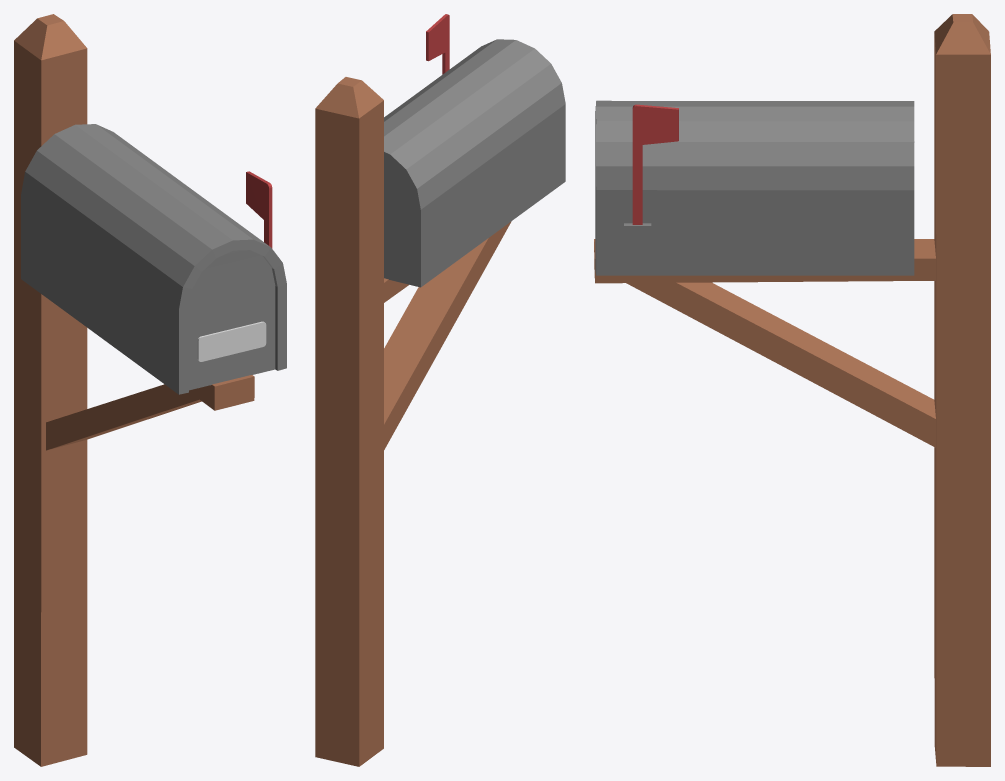
The model's file is Mailbox.fbx.
The picture shows the model from 3 angles, left to right: view 1: azimuth 30°, elevation 25°; view 2: azimuth 150°, elevation 25°; view 3: azimuth 270°, elevation 25°; orthographic projection. The views are drawn at different scales.
Visible parts, largest first — view 1: Mailbox; view 2: Mailbox; view 3: Mailbox.
Boxes of the visible parts, <box> form: Mailbox: <box>14,14,286,766</box>; Mailbox: <box>315,14,565,766</box>; Mailbox: <box>594,14,990,766</box>.
Bounding box in the file's own units: 31.35 × 193 × 94.3.
